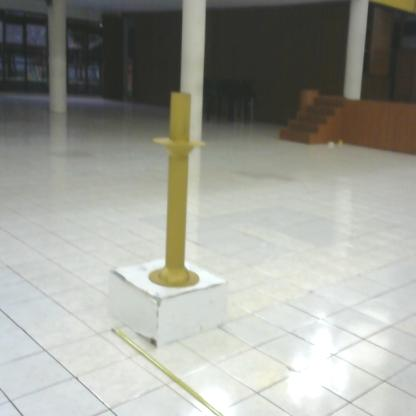pole: (144, 91, 210, 295)
